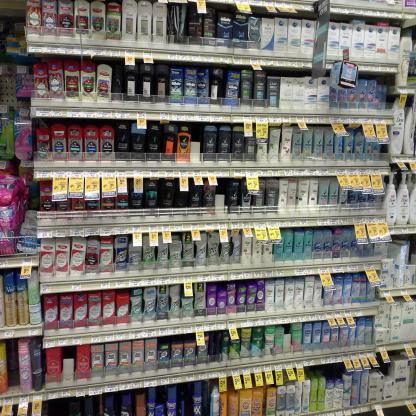Void: (112, 66, 126, 98), (7, 344, 16, 389), (326, 364, 339, 378)
